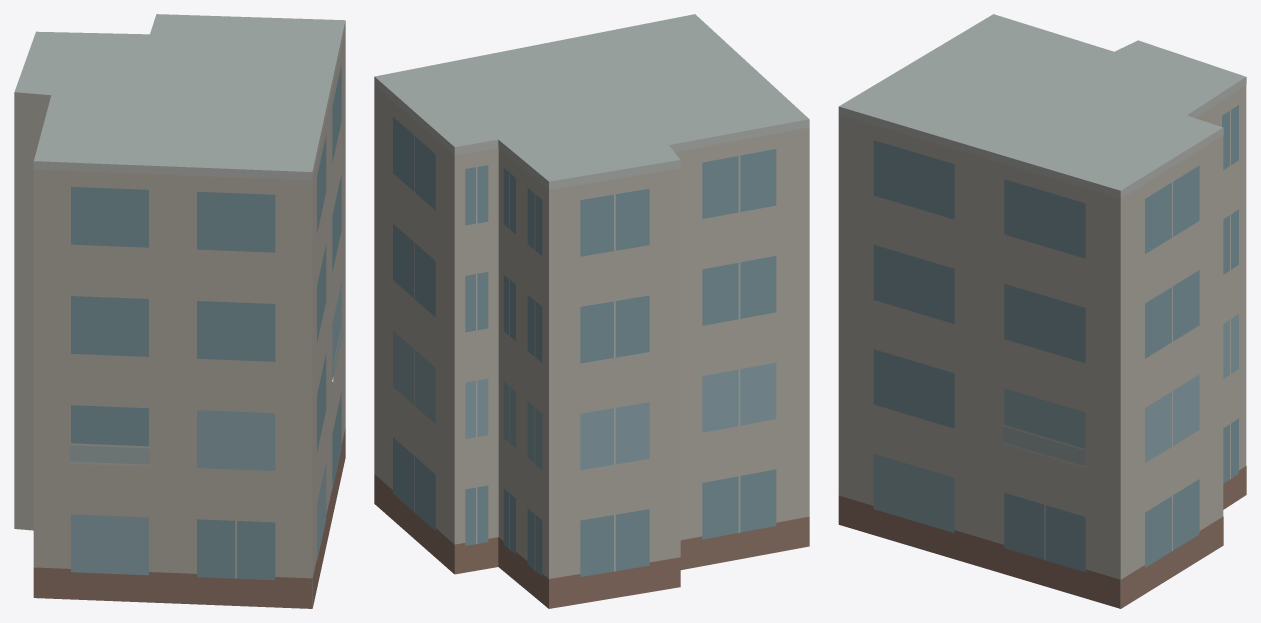
The model's file is survey-upis-32659330.glb.
3 views of the same model, side by side, from view 1: azimuth 30°, elevation 25°; view 2: azimuth 150°, elevation 25°; view 3: azimuth 270°, elevation 25° (orthographic). The views are drawn at different scales.
Parts seen in each view (by area): view 1: survey-upis-32659330.tmp; view 2: survey-upis-32659330.tmp; view 3: survey-upis-32659330.tmp.
Part boxes in pixels (x1,y1,x2,y2): survey-upis-32659330.tmp: (14, 14, 345, 608); survey-upis-32659330.tmp: (374, 14, 809, 608); survey-upis-32659330.tmp: (838, 14, 1246, 608).
Size of the model in its own units: 11.61 by 12.8 by 11.32.
